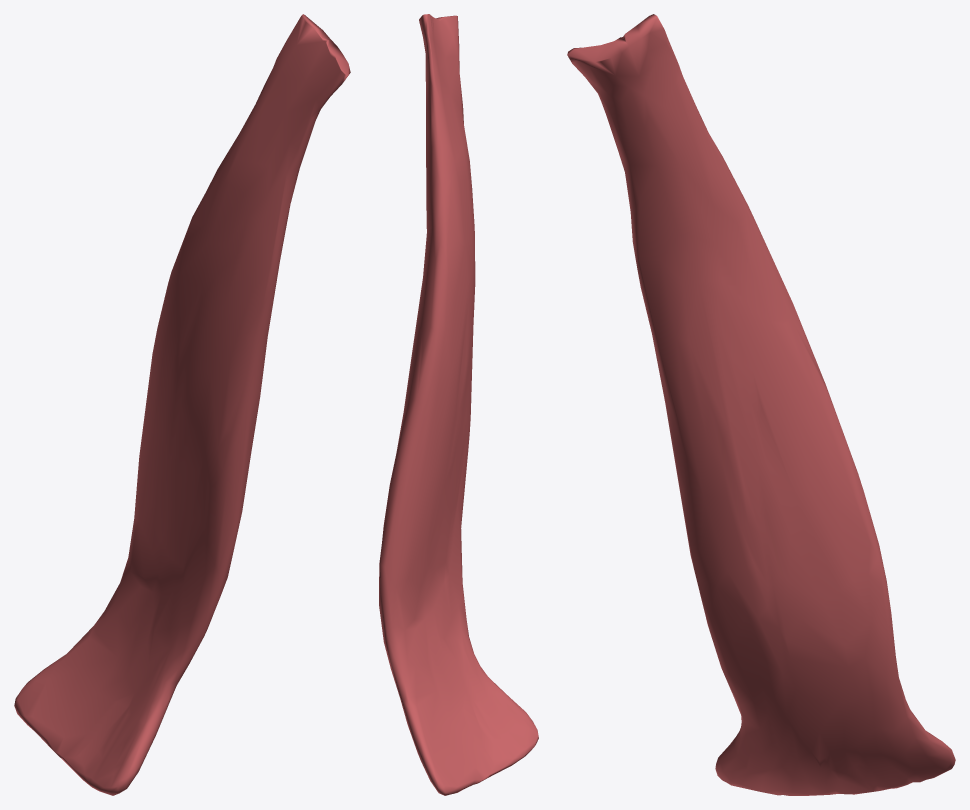
3 renders of one model, left to right at view 1: azimuth 30°, elevation 25°; view 2: azimuth 150°, elevation 25°; view 3: azimuth 270°, elevation 25°, orthographic. The views are drawn at different scales.
Parts seen in each view (by area): view 1: 右侧内直肌; view 2: 右侧内直肌; view 3: 右侧内直肌.
Part boxes in pixels (bbox=[...]): 右侧内直肌: bbox=[14, 14, 350, 795]; 右侧内直肌: bbox=[379, 14, 538, 795]; 右侧内直肌: bbox=[567, 14, 955, 795].
Bounding box in the file's own units: 0.0147 × 0.0595 × 0.0244.
